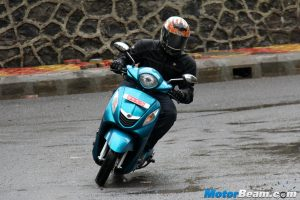helmet: (161, 14, 189, 57)
